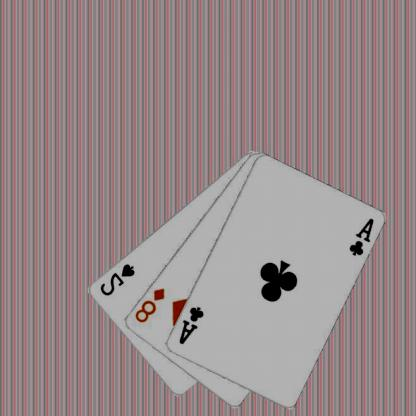2S: (98, 261, 138, 297)
8D: (134, 285, 168, 324)
AC: (348, 216, 377, 257), (178, 304, 206, 346)
